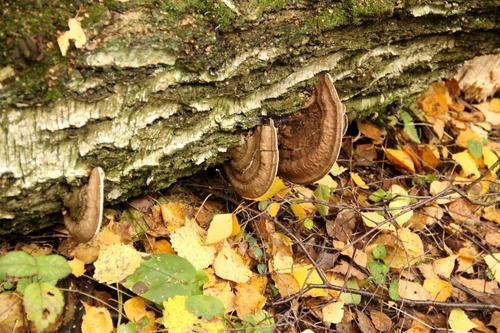Ganoderma - Fruit Body: (283, 67, 349, 185), (217, 115, 279, 199), (60, 167, 108, 244)
